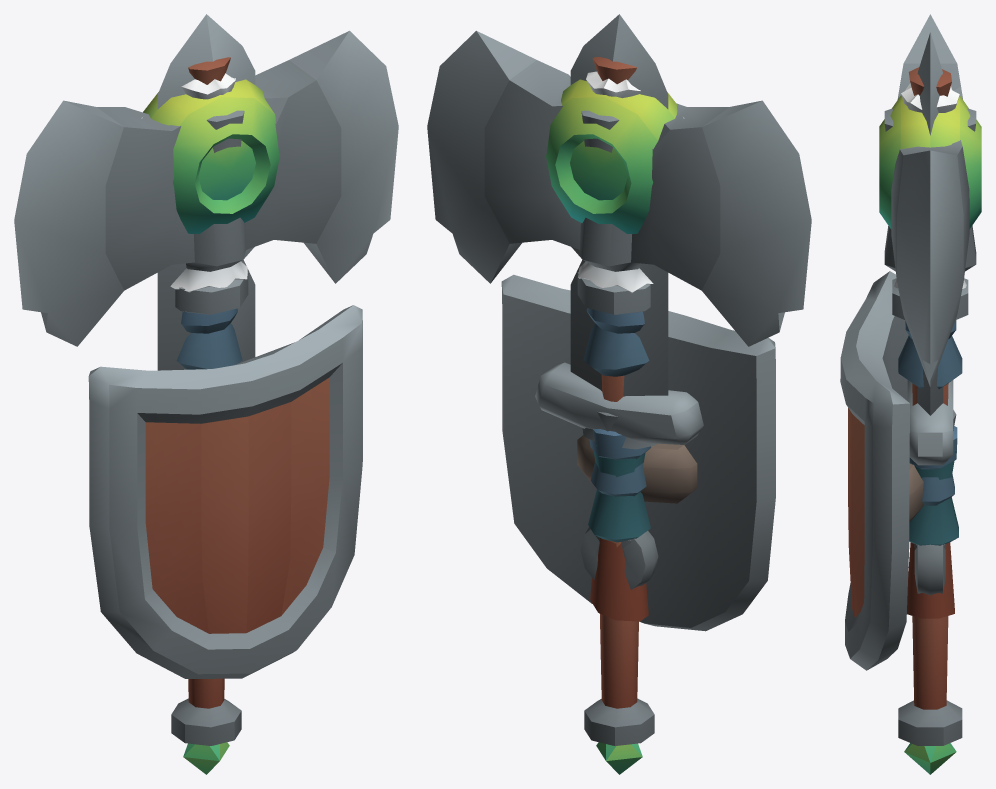
Rendered from Equipment.glb.
The picture shows the model from 3 angles, left to right: view 1: azimuth 30°, elevation 25°; view 2: azimuth 150°, elevation 25°; view 3: azimuth 270°, elevation 25°; orthographic projection. The views are drawn at different scales.
Visible parts, largest first — view 1: Badge_Shield, 2H_Axe, 2H_Staff, 1H_Sword; view 2: 2H_Axe, Badge_Shield, 2H_Staff, 1H_Sword; view 3: 2H_Axe, Badge_Shield, 2H_Staff, 1H_Sword.
Part boxes in pixels (left/top/right/bottom): Badge_Shield: left=88, top=305, right=362, bottom=678; 2H_Axe: left=14, top=30, right=398, bottom=369; 2H_Staff: left=141, top=79, right=279, bottom=774; 1H_Sword: left=157, top=14, right=255, bottom=370; 2H_Axe: left=427, top=30, right=811, bottom=621; Badge_Shield: left=501, top=274, right=775, bottom=631; 2H_Staff: left=546, top=79, right=684, bottom=774; 1H_Sword: left=535, top=14, right=703, bottom=589; 2H_Axe: left=884, top=14, right=976, bottom=618; Badge_Shield: left=840, top=271, right=923, bottom=670; 2H_Staff: left=879, top=95, right=981, bottom=774; 1H_Sword: left=907, top=32, right=953, bottom=595.
Bounding box in the file's own units: 1.24 × 2.34 × 0.4032.
4 materials, 4 textured.
